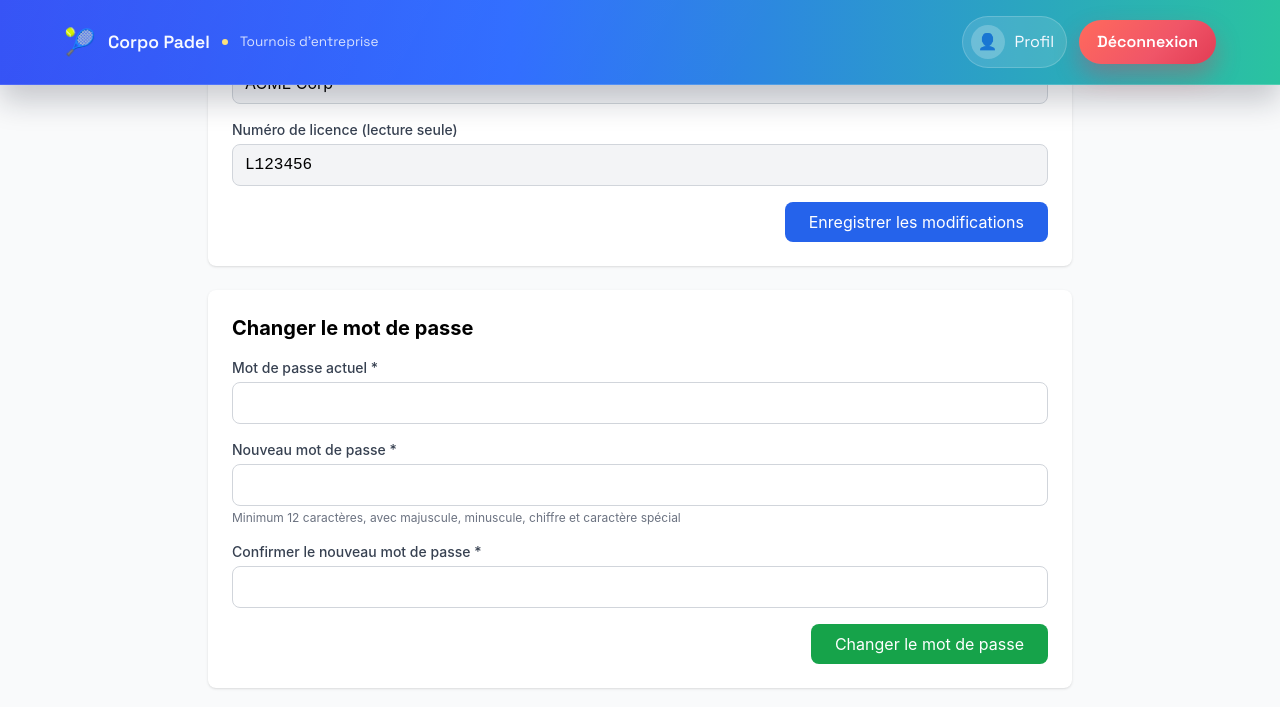
Scenario: Profil › affiche un message d erreur sur changement de mot de passe invalide
(page scrolled)
Type "OldPass123!" into the password field below "Mot de passe actuel *" at (640, 403), box [232,382,1048,424]
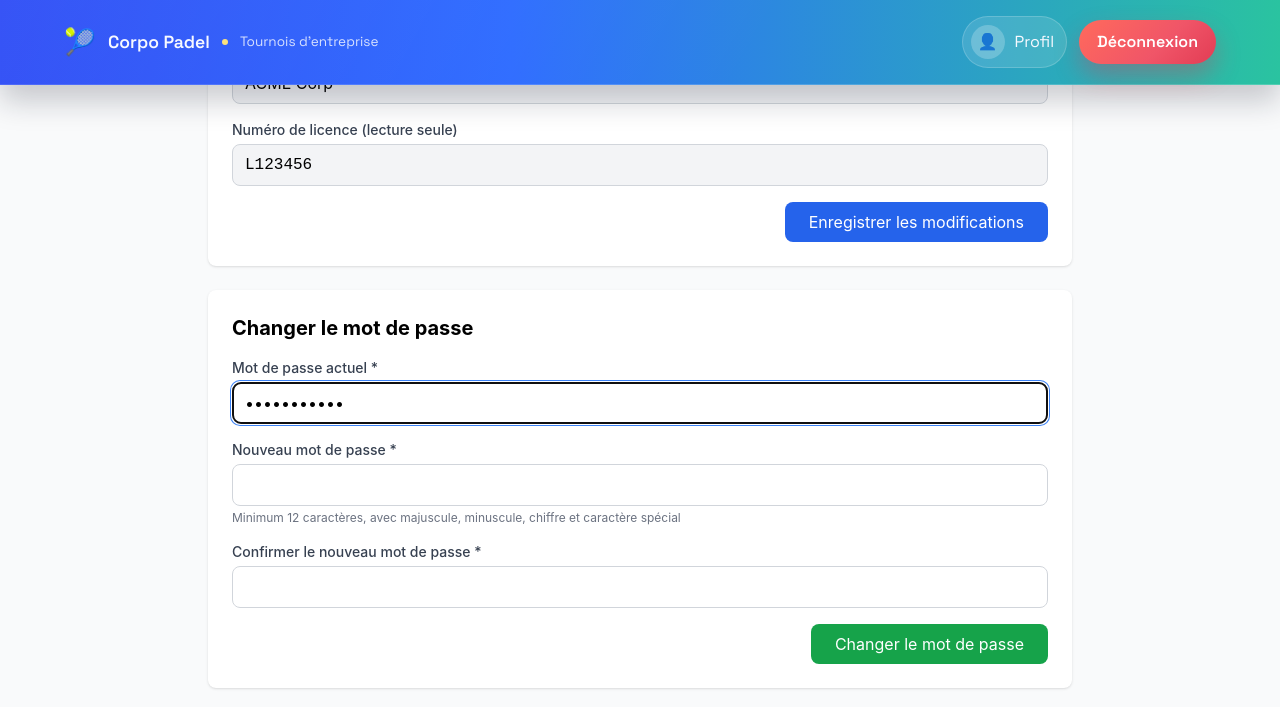
Type "short" into the 2nd password field at (640, 485), box [232,464,1048,506]
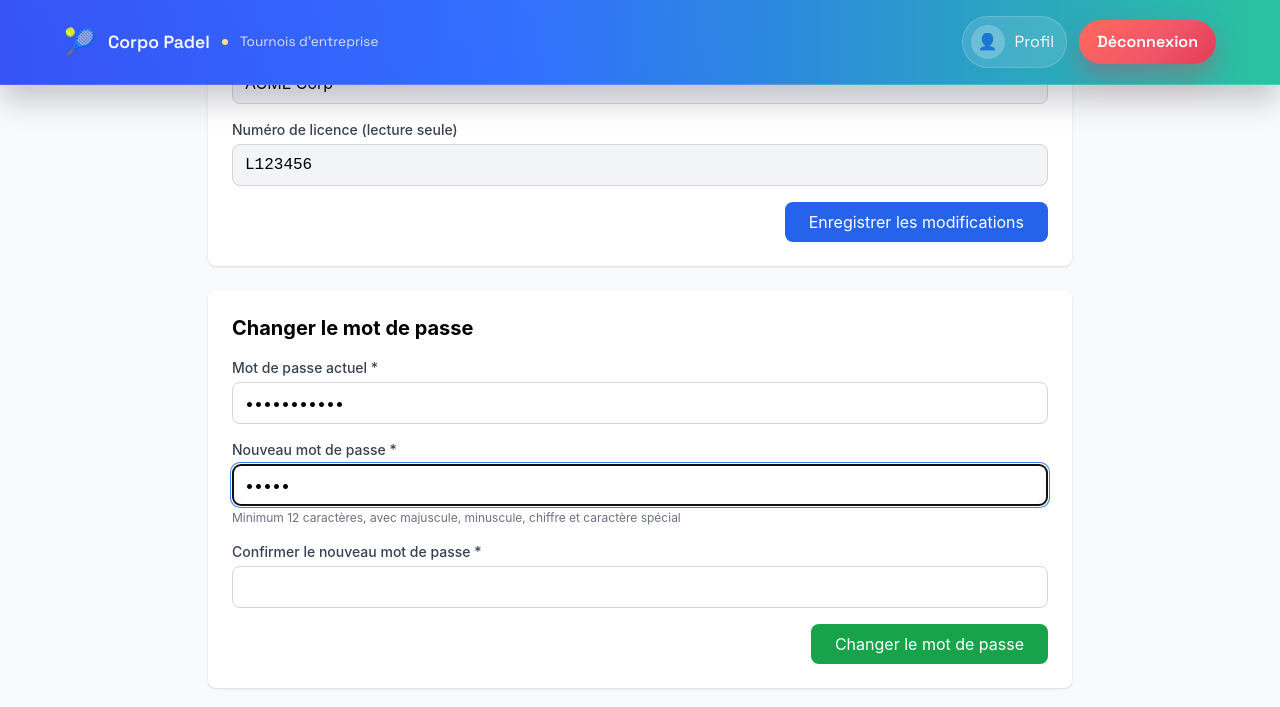
Type "short" into the password field below "Confirmer le nouveau mot de passe *" at (640, 587), box [232,566,1048,608]
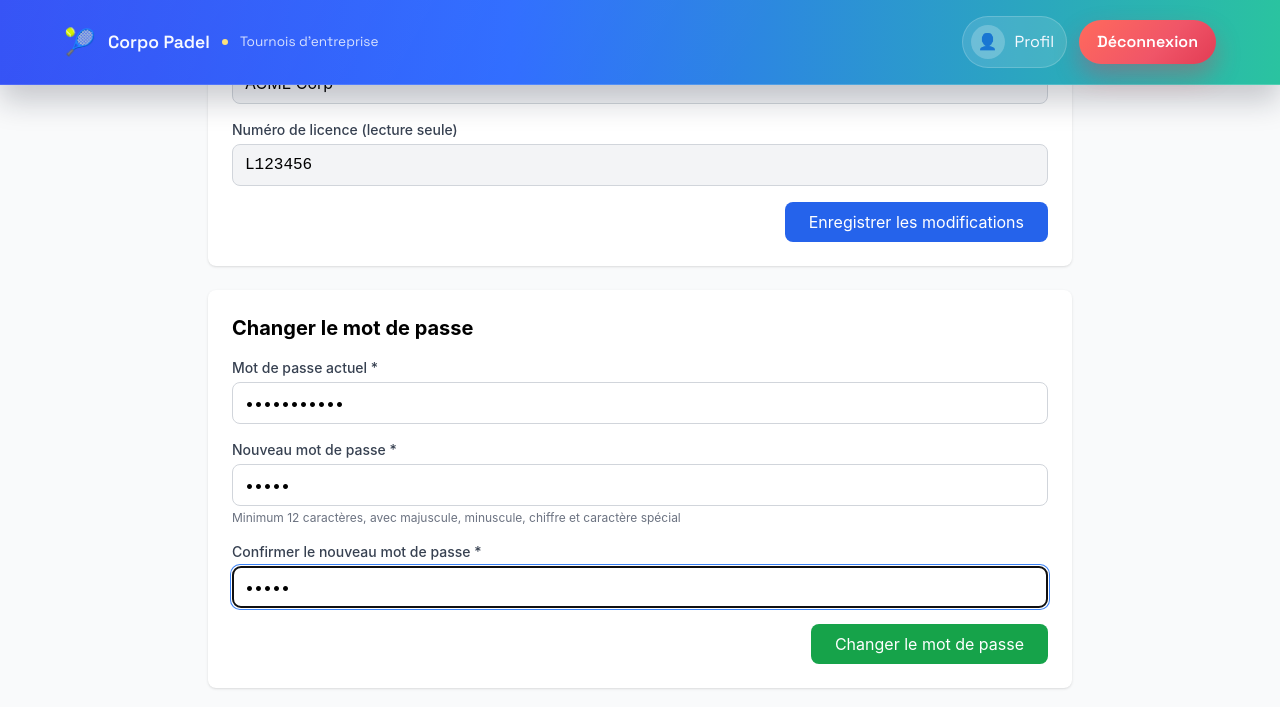
Click the submit button at (930, 644), box [811,624,1048,664]
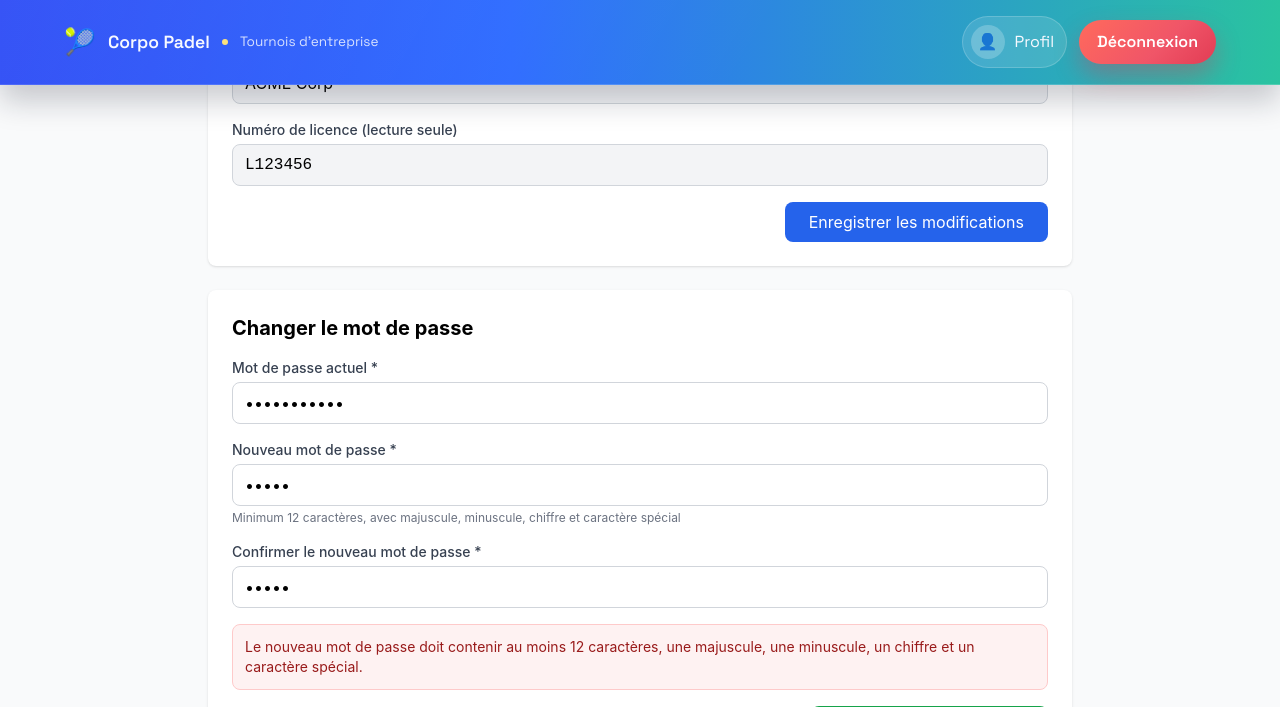
Expected: the text "Le nouveau mot de passe" is shown, [245,638,974,675]
